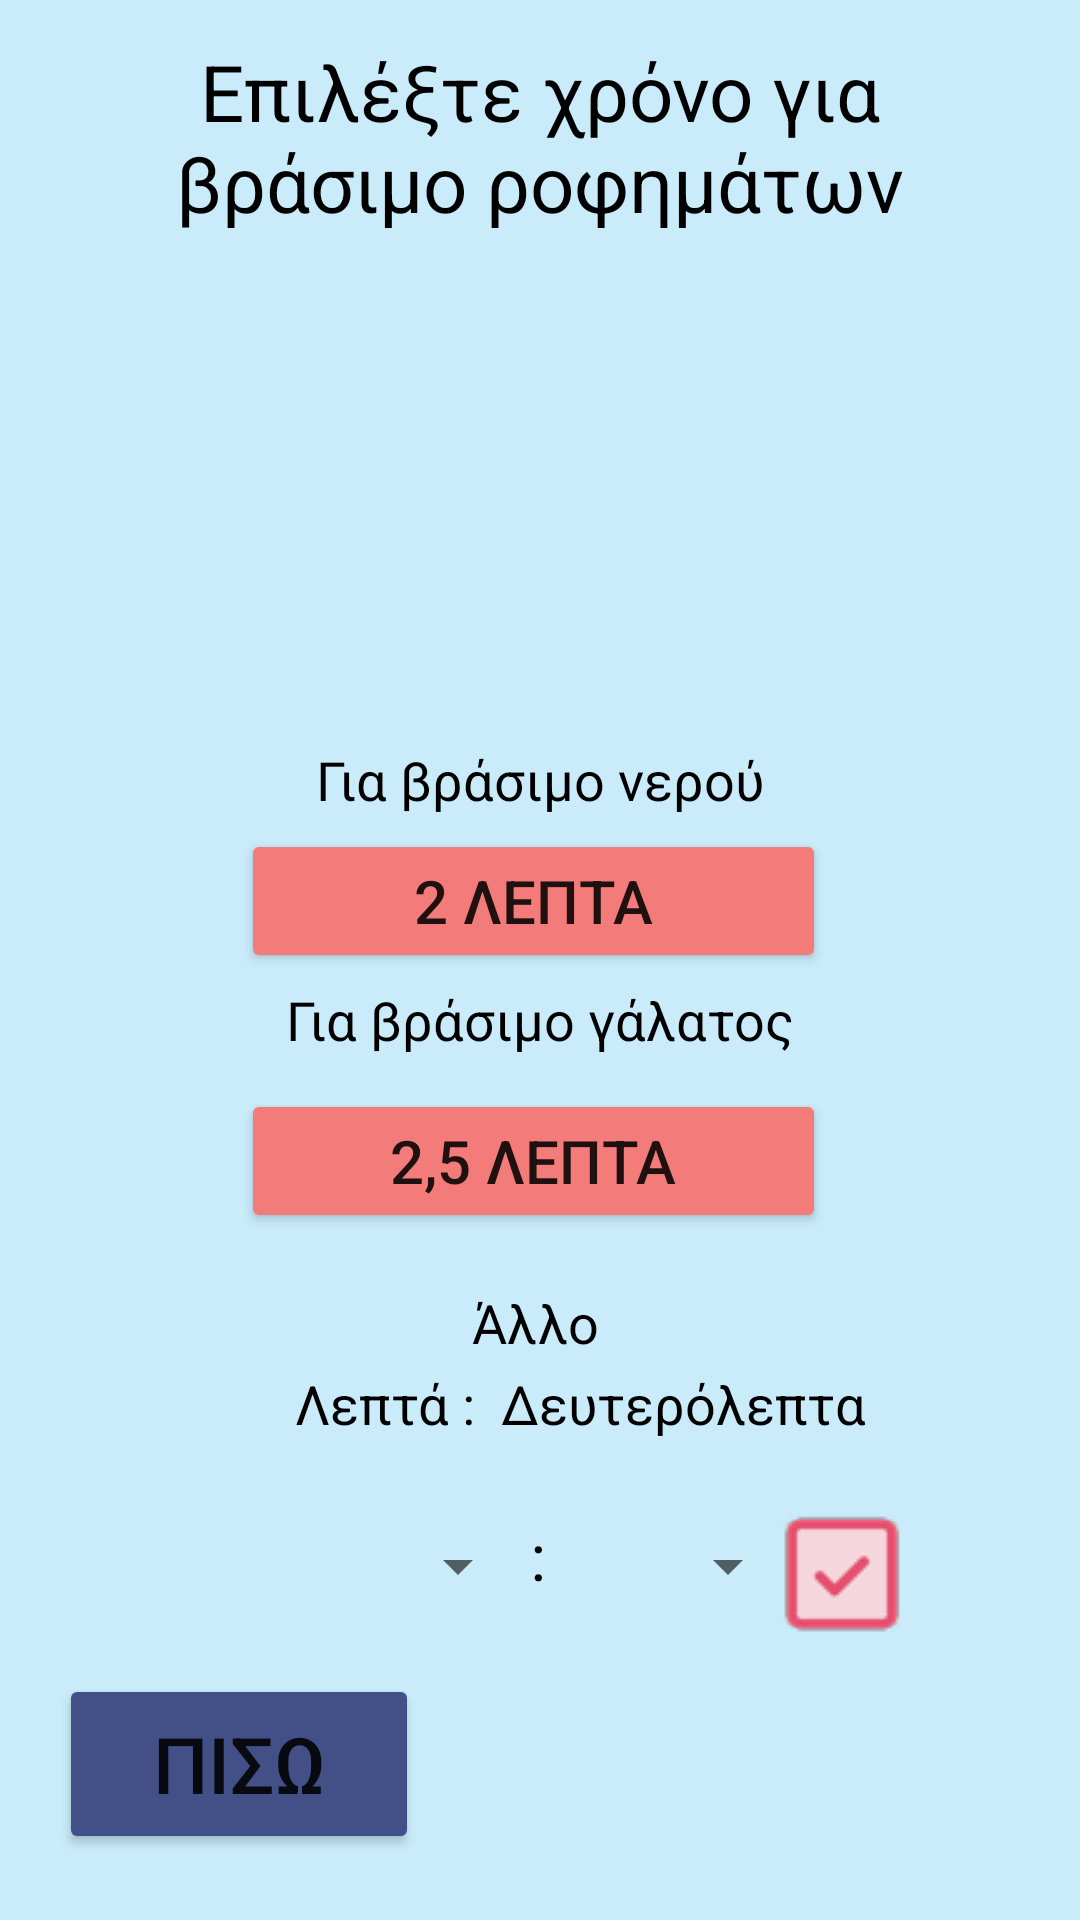

Where icons sit on this 1080*1920 app screen, as (x1, y1, x2, y2):
tick: (785, 1517, 899, 1631)
